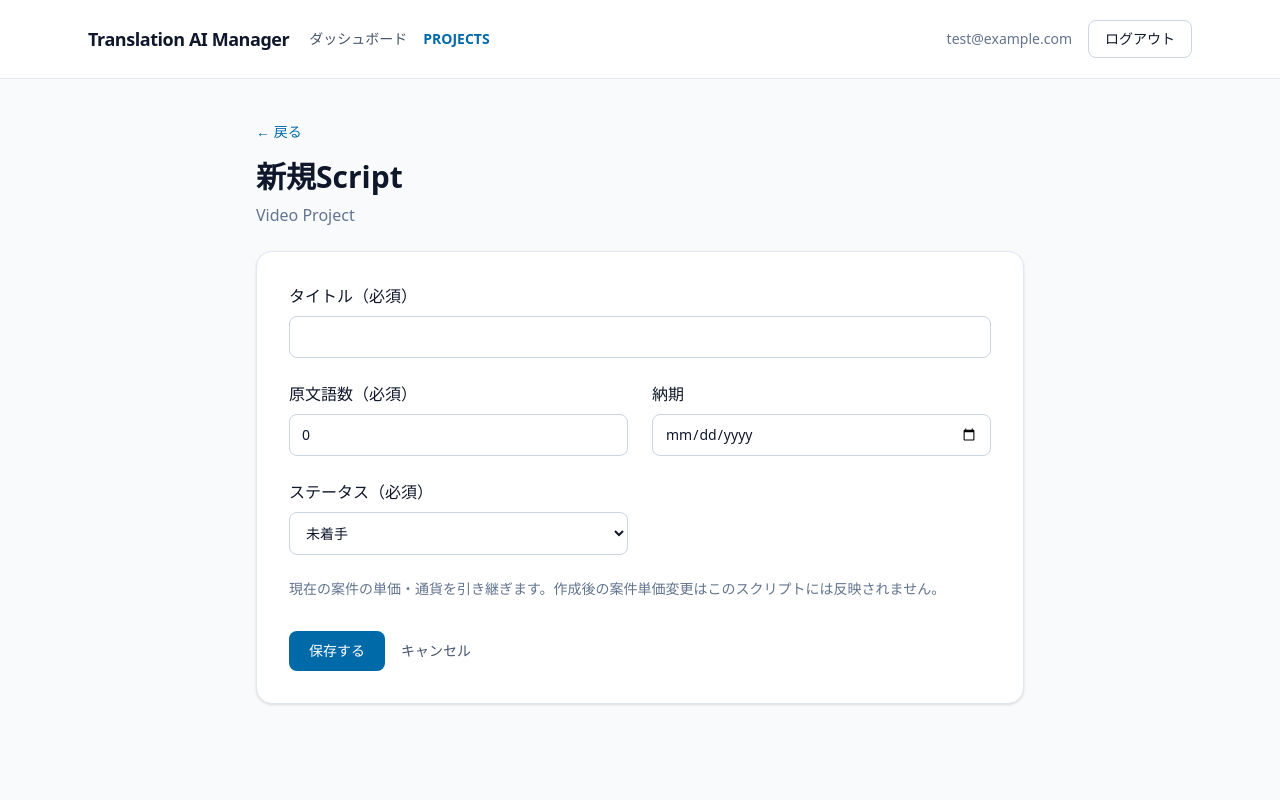
Test: creates a script with only editable fields
This screenshot has width=1280, height=800.
Type "Video #001" into the field labelled "タイトル（必須）".
click(640, 337); type("Video #001")  # box [289,316,991,358]
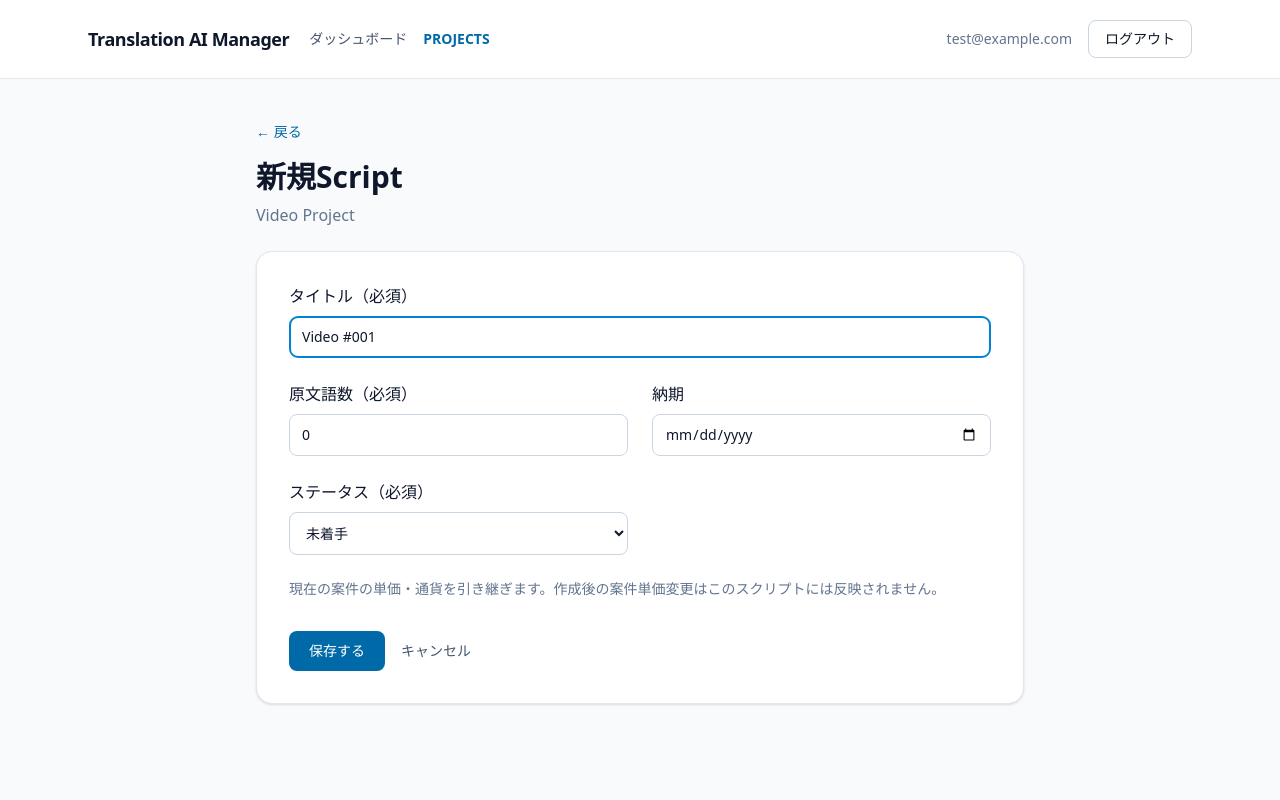
Replace the text in the number field labelled "原文語数（必須）" with "4500" at (458, 435), box [289,414,628,456]
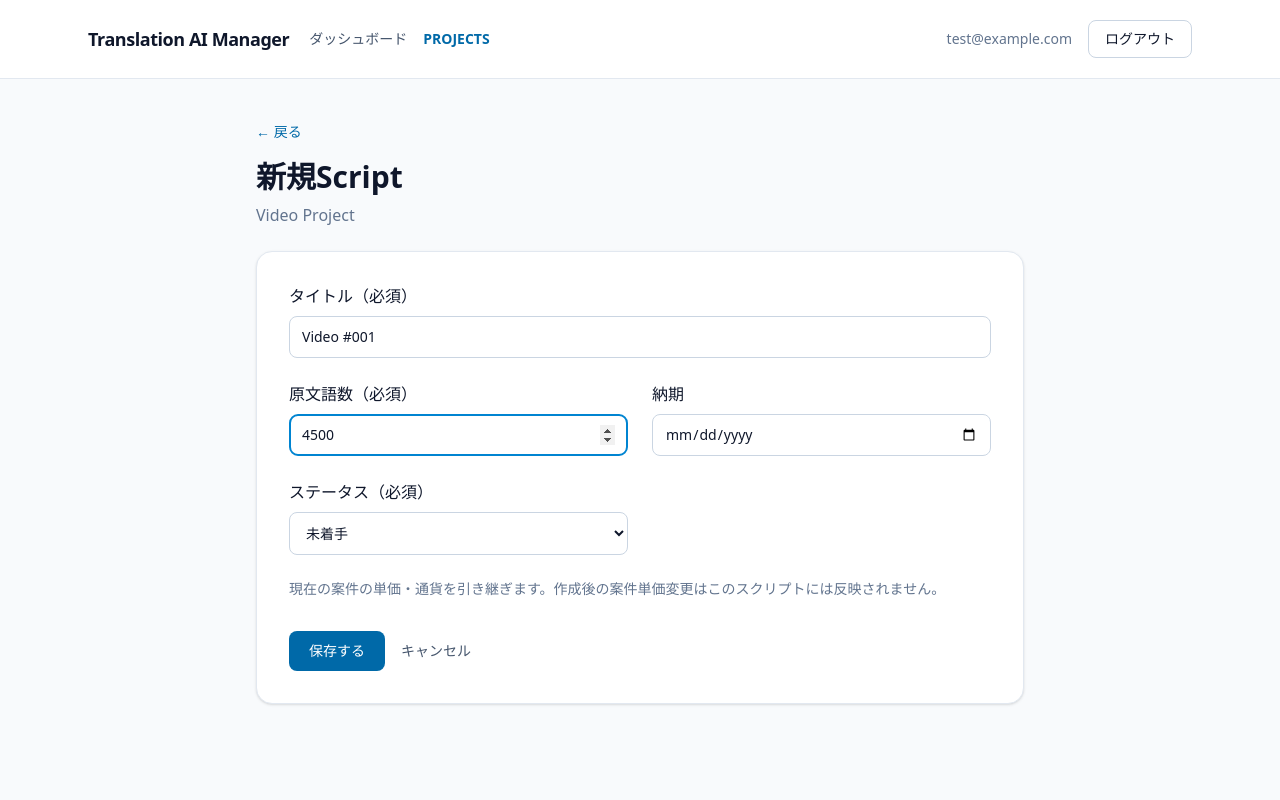
Type "2026-10-10" into the date field labelled "納期".
click(822, 435); type("2026-10-10")  # box [652,414,991,456]
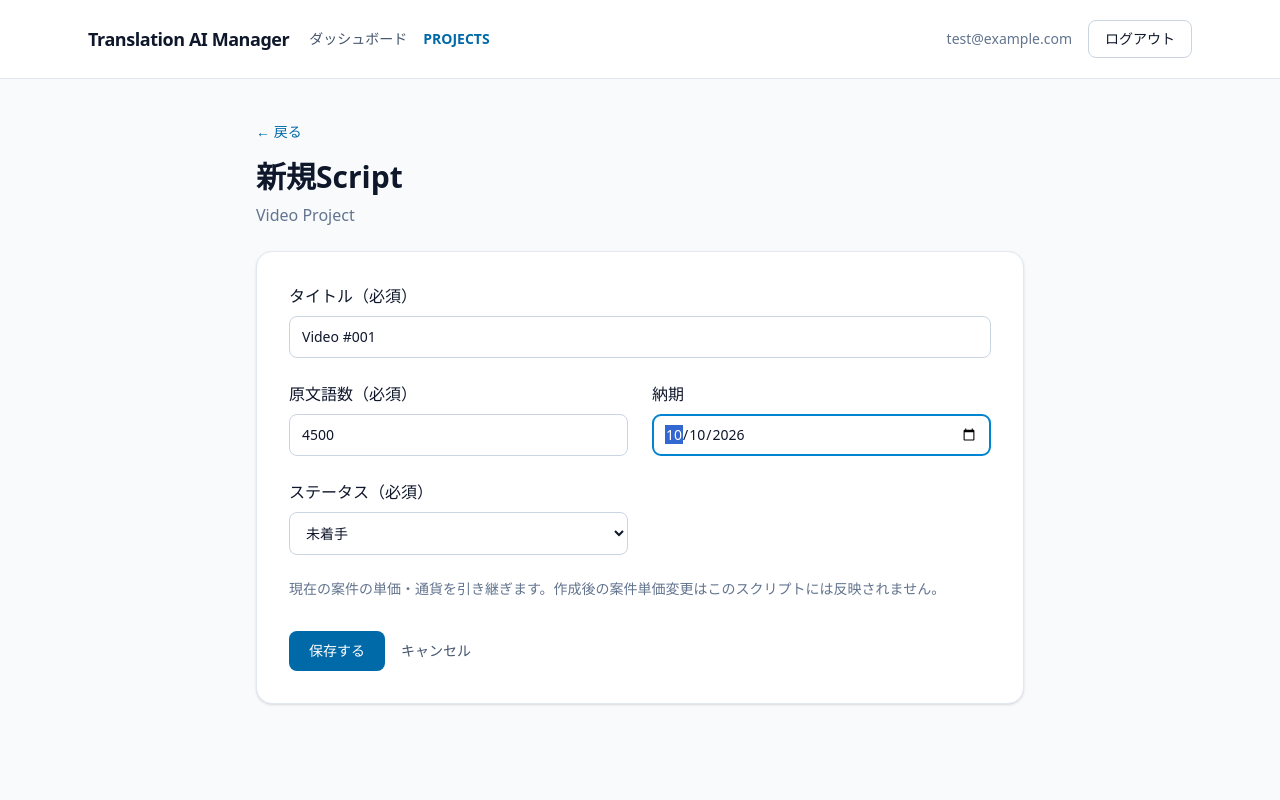
Click the button "保存する".
click(337, 651)  # box [289,631,385,671]
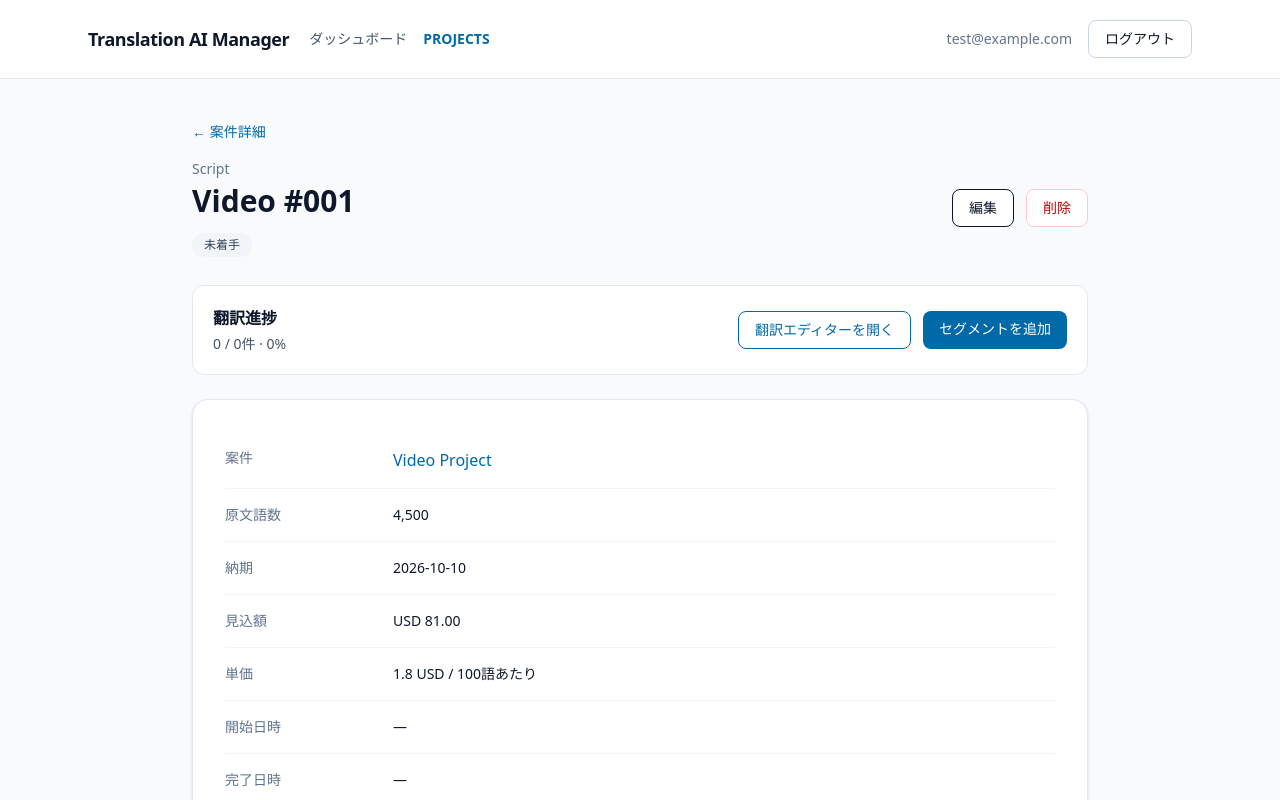
expect the heading "Video #001" is shown: met, box [192,183,355,219]
